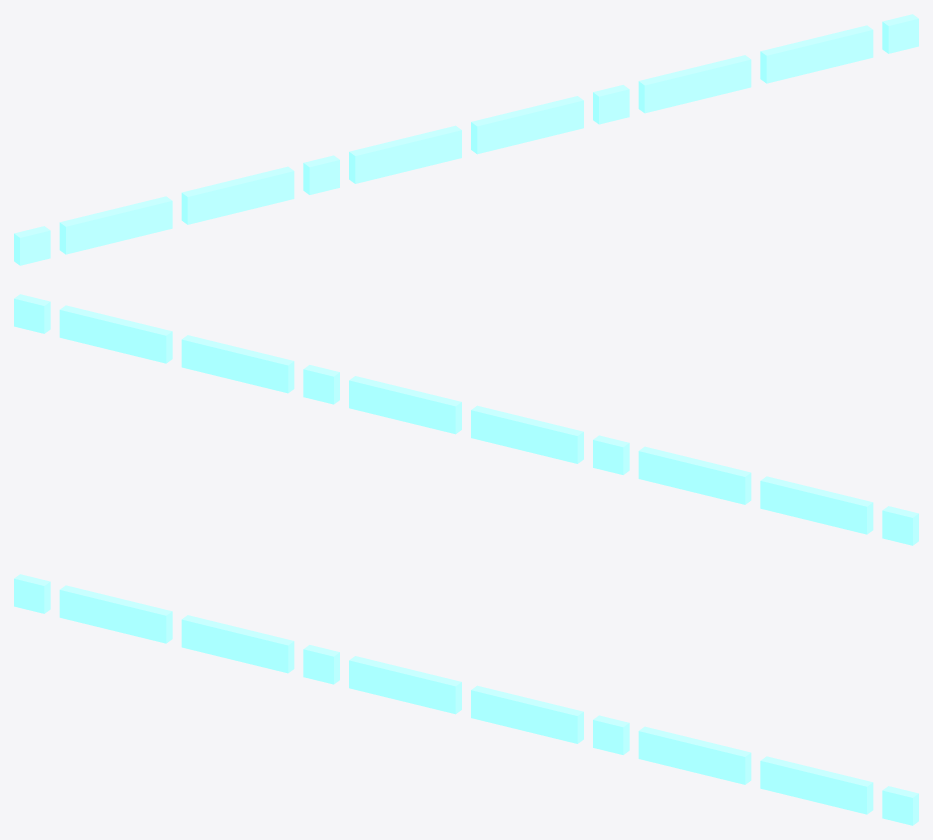
The model's file is runeband_l12.fbx.
The picture shows the model from 3 angles, top to bottom: view 1: azimuth 30°, elevation 25°; view 2: azimuth 150°, elevation 25°; view 3: azimuth 330°, elevation 25°; orthographic projection.
Visible parts, largest first — view 1: runeband_l12; view 2: runeband_l12; view 3: runeband_l12.
Boxes of the visible parts, x1,y1,x2,y2 form: runeband_l12: (14, 14, 918, 265); runeband_l12: (14, 294, 918, 545); runeband_l12: (14, 574, 918, 825).
Bounding box in the file's own units: 1180 × 35 × 14.
